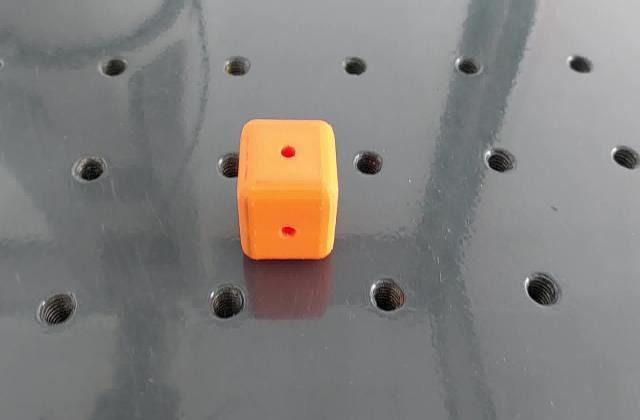cube: (236, 114, 340, 263)
